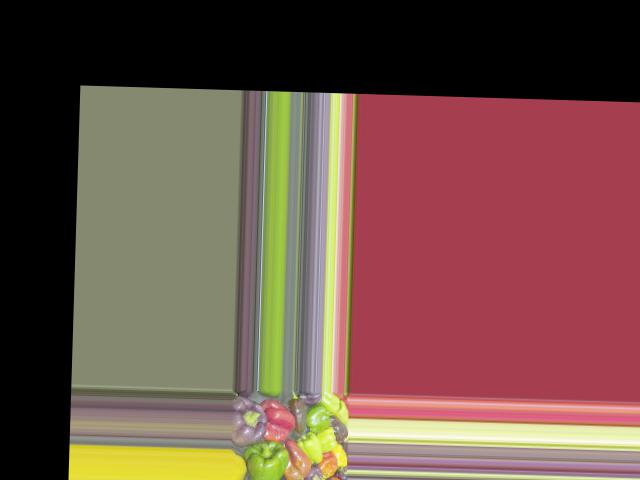bell_pepper: (301, 465, 327, 480)
